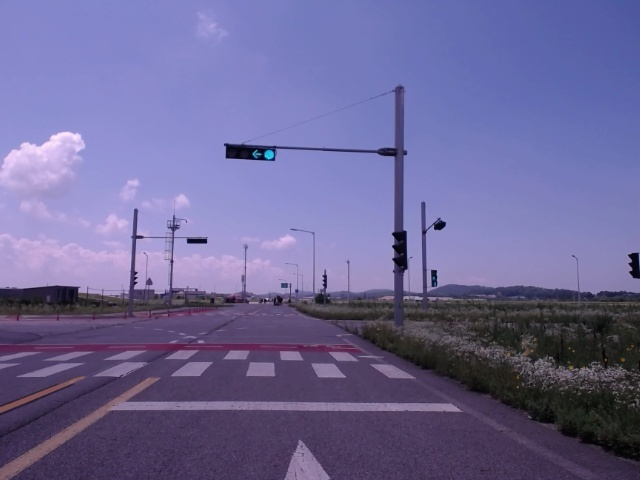all_green_4: (225, 140, 276, 160)
